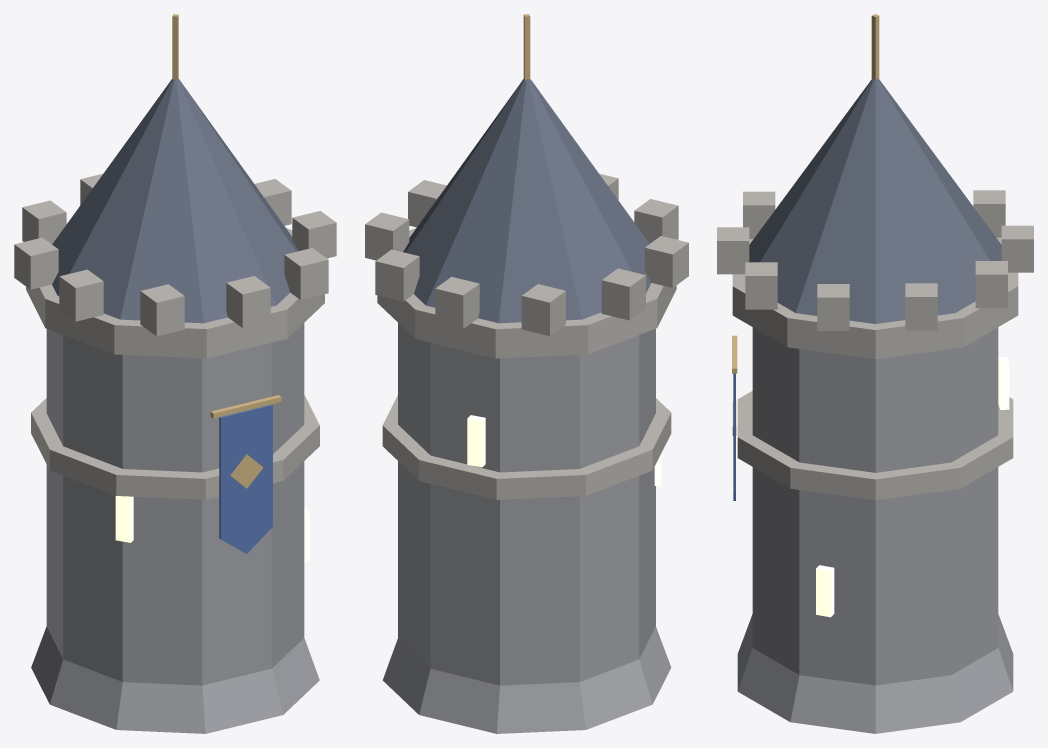
Rendered from wall_tower.glb.
3 renders of one model, left to right at view 1: azimuth 30°, elevation 25°; view 2: azimuth 150°, elevation 25°; view 3: azimuth 270°, elevation 25°, orthographic.
Parts seen in each view (by area): view 1: wall_tower; view 2: wall_tower; view 3: wall_tower.
Boxes of the visible parts, x1=… form: wall_tower: x1=14, y1=14, x2=336, y2=733; wall_tower: x1=365, y1=14, x2=688, y2=733; wall_tower: x1=717, y1=14, x2=1033, y2=733.
Size of the model in its own units: 6.58 by 15.7 by 6.86.
